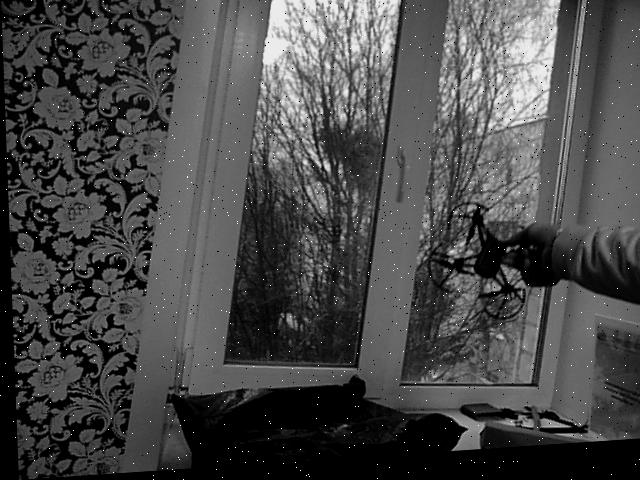drone: (419, 193, 557, 335)
